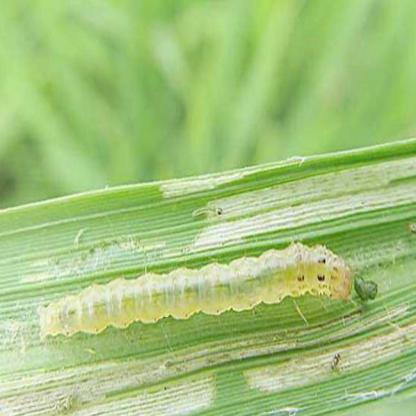leaf-folder: (35, 244, 381, 336)
